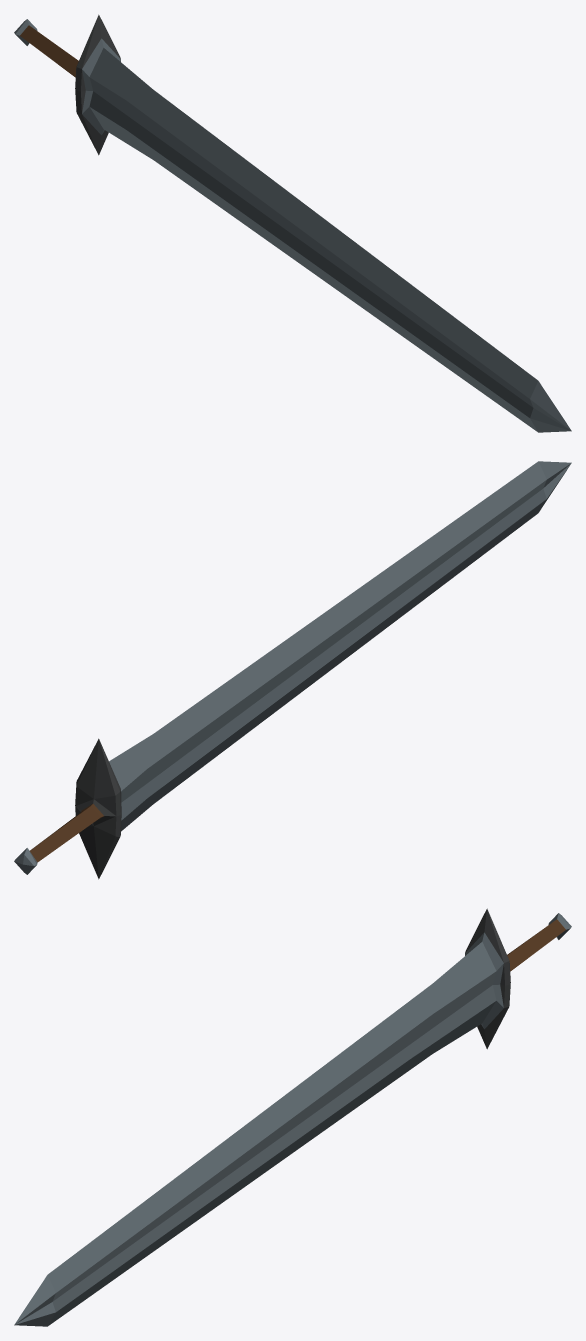
Rendered from Sword3.obj.
3 views of the same model, one above another, from view 1: azimuth 30°, elevation 25°; view 2: azimuth 150°, elevation 25°; view 3: azimuth 330°, elevation 25° (orthographic).
Parts seen in each view (by area): view 1: Sword; view 2: Sword; view 3: Sword.
Boxes of the visible parts, left/top/right/bottom form: Sword: left=14, top=14, right=571, bottom=432; Sword: left=14, top=461, right=571, bottom=879; Sword: left=14, top=908, right=571, bottom=1326.
Bounding box in the file's own units: 0.0673 × 0.2005 × 1.41.
1 material, 1 textured.
